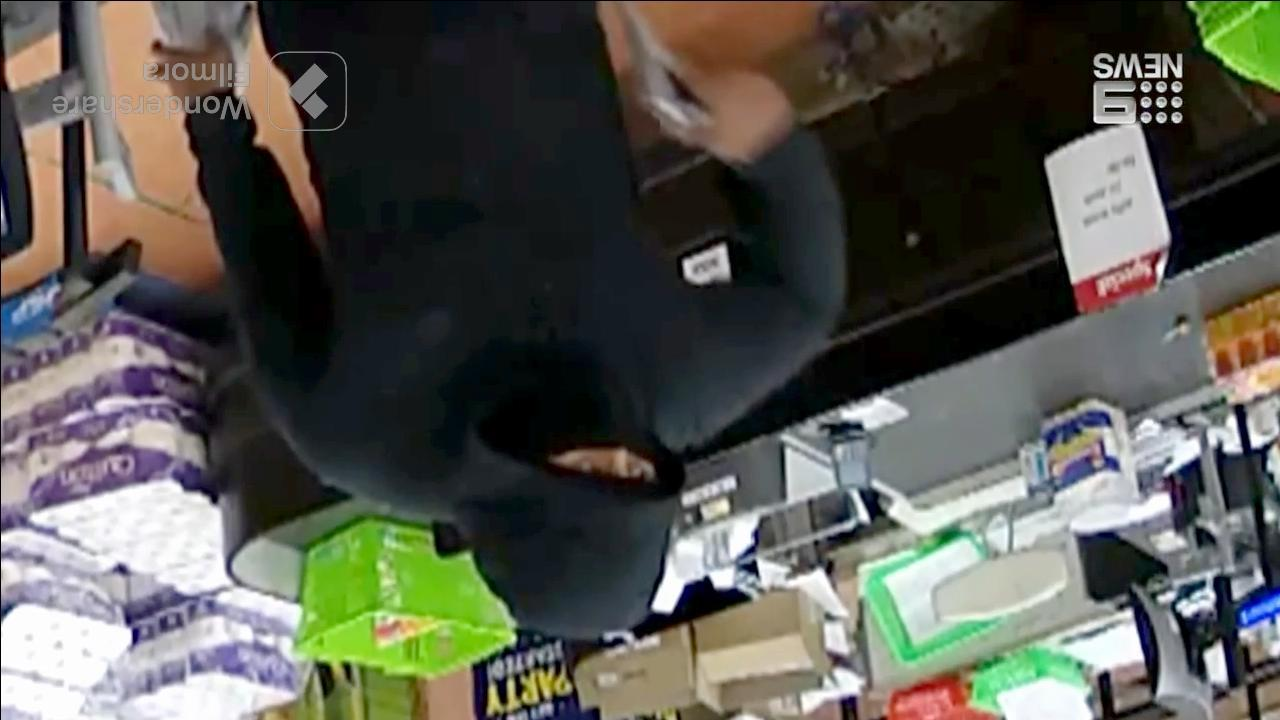gun: (593, 0, 708, 153)
